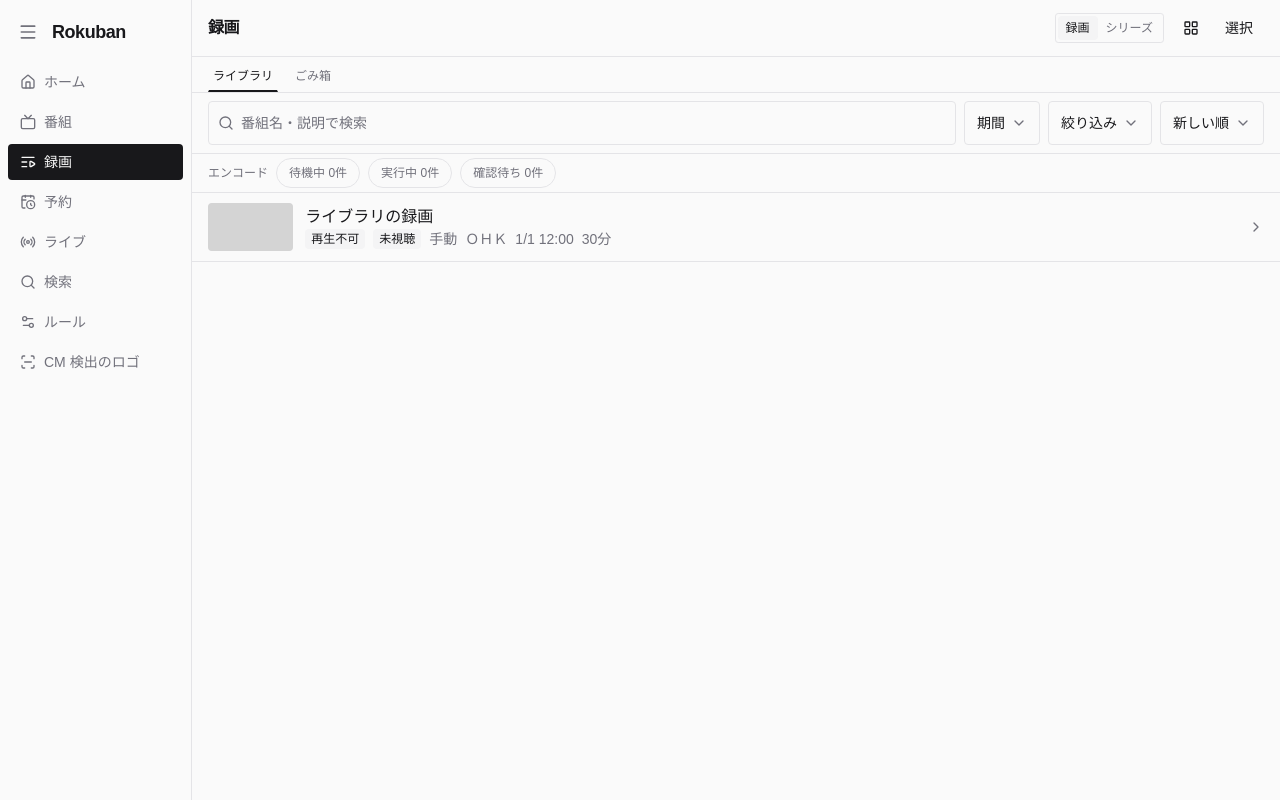
Test case: RecordingsPage タブ › ライブラリとごみ箱を切り替え、ごみ箱一覧を trash=true で取る
The width and height of the screenshot is (1280, 800).
expect the text "ライブラリの録画" is shown: met, box [305,208,433,225]
expect the text "捨てた録画" is not shown: met
Step 1. Click the button "ごみ箱" → x=313, y=76, box [290,61,336,92]
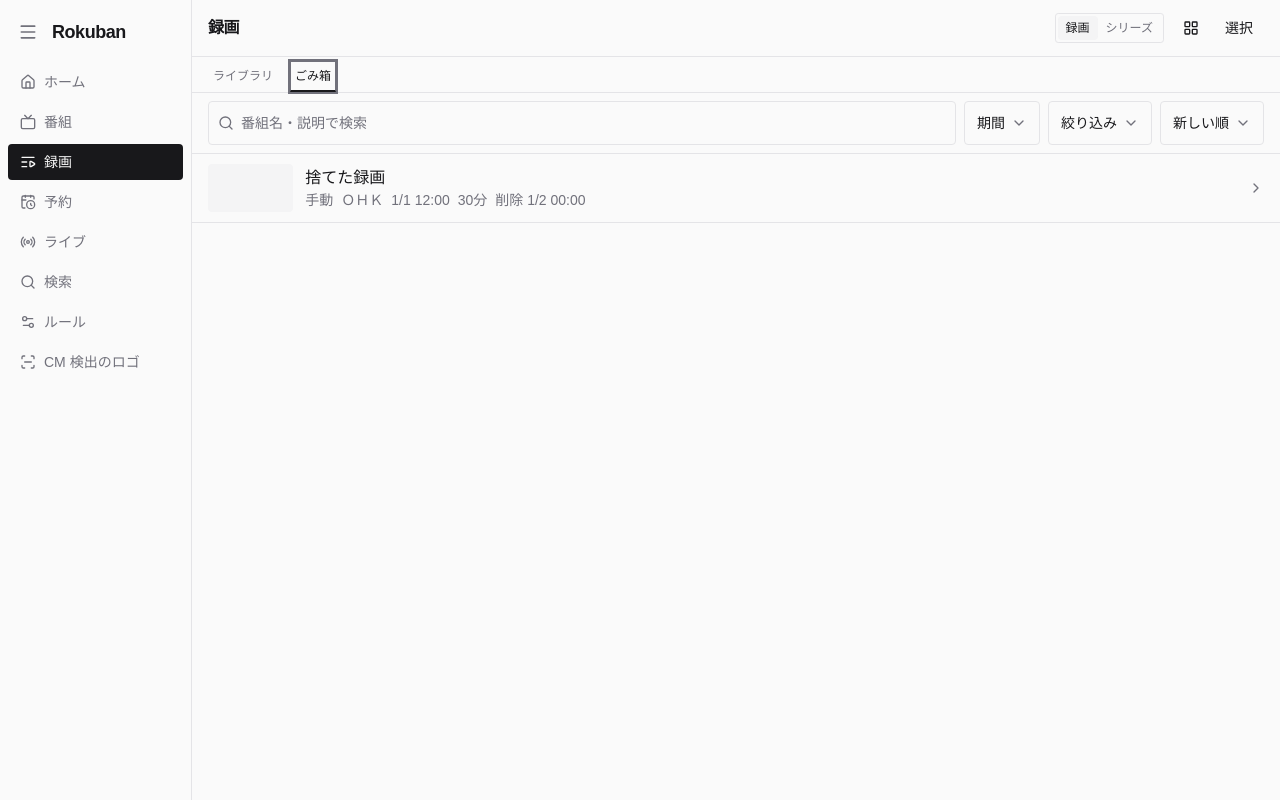
expect the text "捨てた録画" is shown: met, box [305,169,385,186]
expect the text "ライブラリの録画" is gone: met
